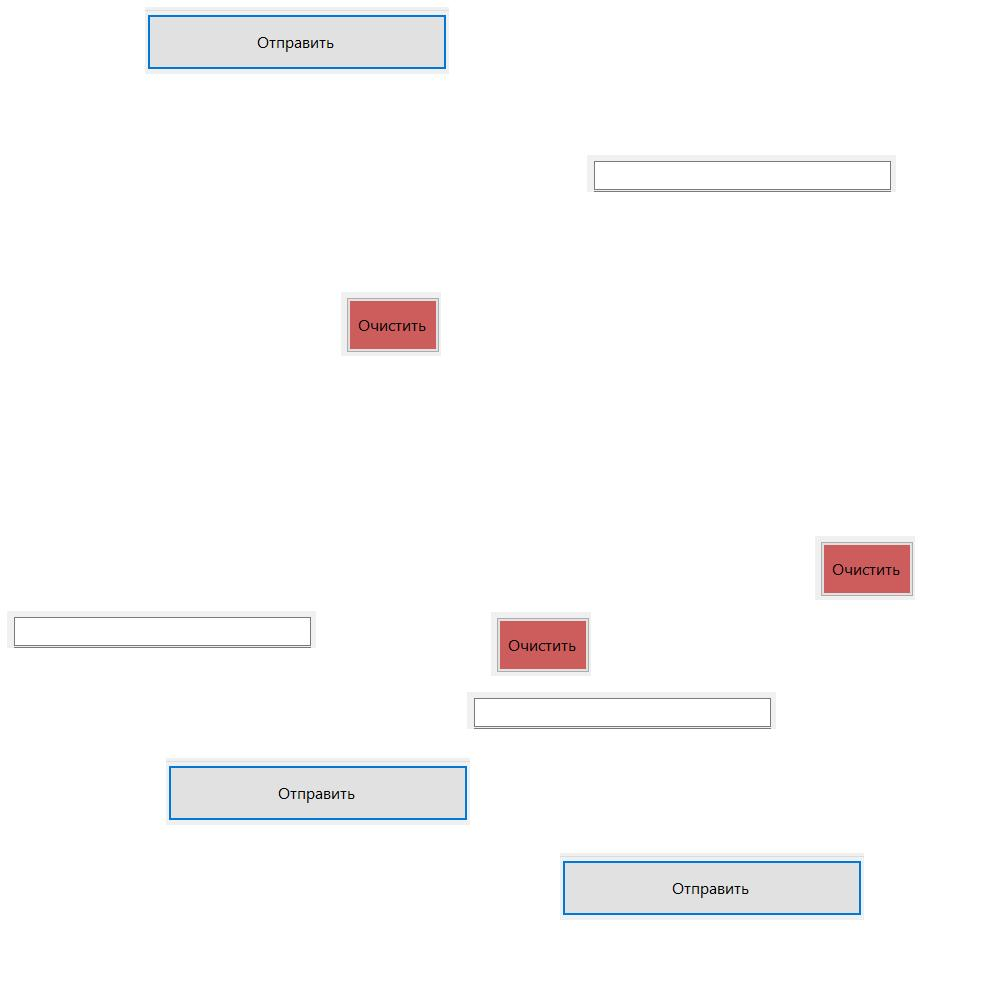Button: (560, 853, 864, 920), (145, 7, 449, 74), (166, 758, 470, 825), (491, 612, 591, 676), (815, 536, 915, 600), (341, 292, 441, 356)
EditText-: (467, 692, 776, 729), (587, 155, 896, 192), (7, 611, 316, 648)
